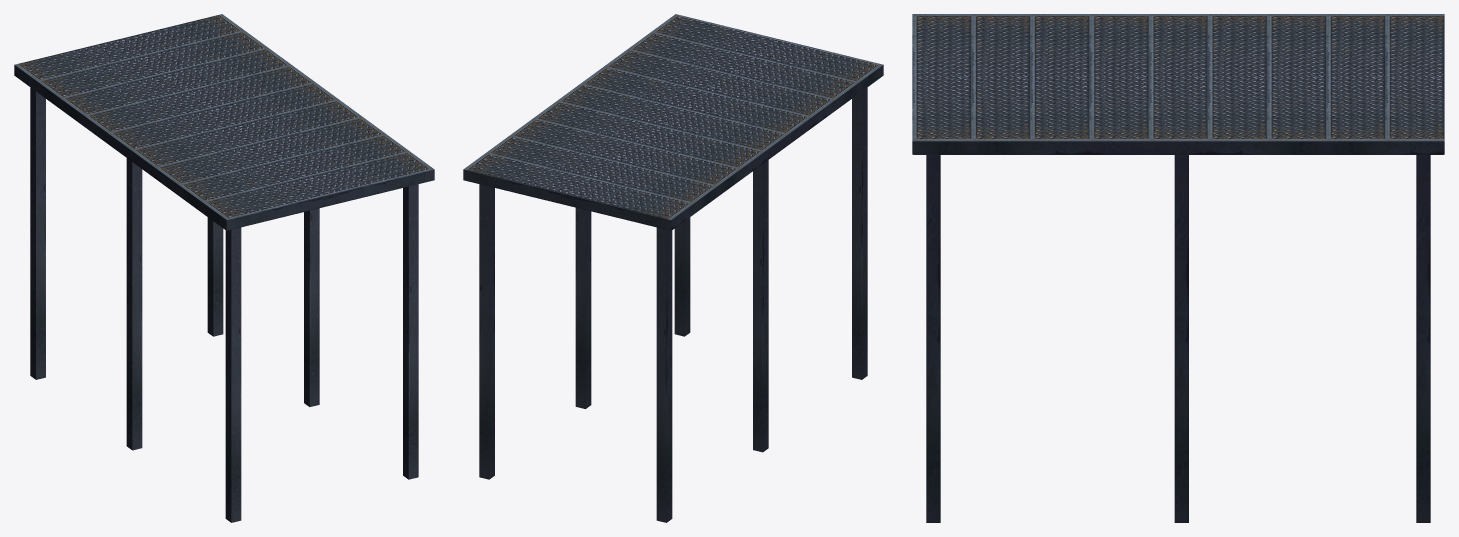
File: yw_huanghunzhihu_zoudao01.FBX
3 renders of one model, left to right at view 1: azimuth 30°, elevation 25°; view 2: azimuth 150°, elevation 25°; view 3: azimuth 270°, elevation 25°, orthographic. The views are drawn at different scales.
Visible parts, largest first — view 1: yw_huanghunzhihu_zoudao01; view 2: yw_huanghunzhihu_zoudao01; view 3: yw_huanghunzhihu_zoudao01.
Boxes of the visible parts, x1,y1,x2,y2 form: yw_huanghunzhihu_zoudao01: (14,14,434,522); yw_huanghunzhihu_zoudao01: (463,14,883,522); yw_huanghunzhihu_zoudao01: (912,14,1444,522).
Bounding box in the file's own units: 258 × 367 × 456.
